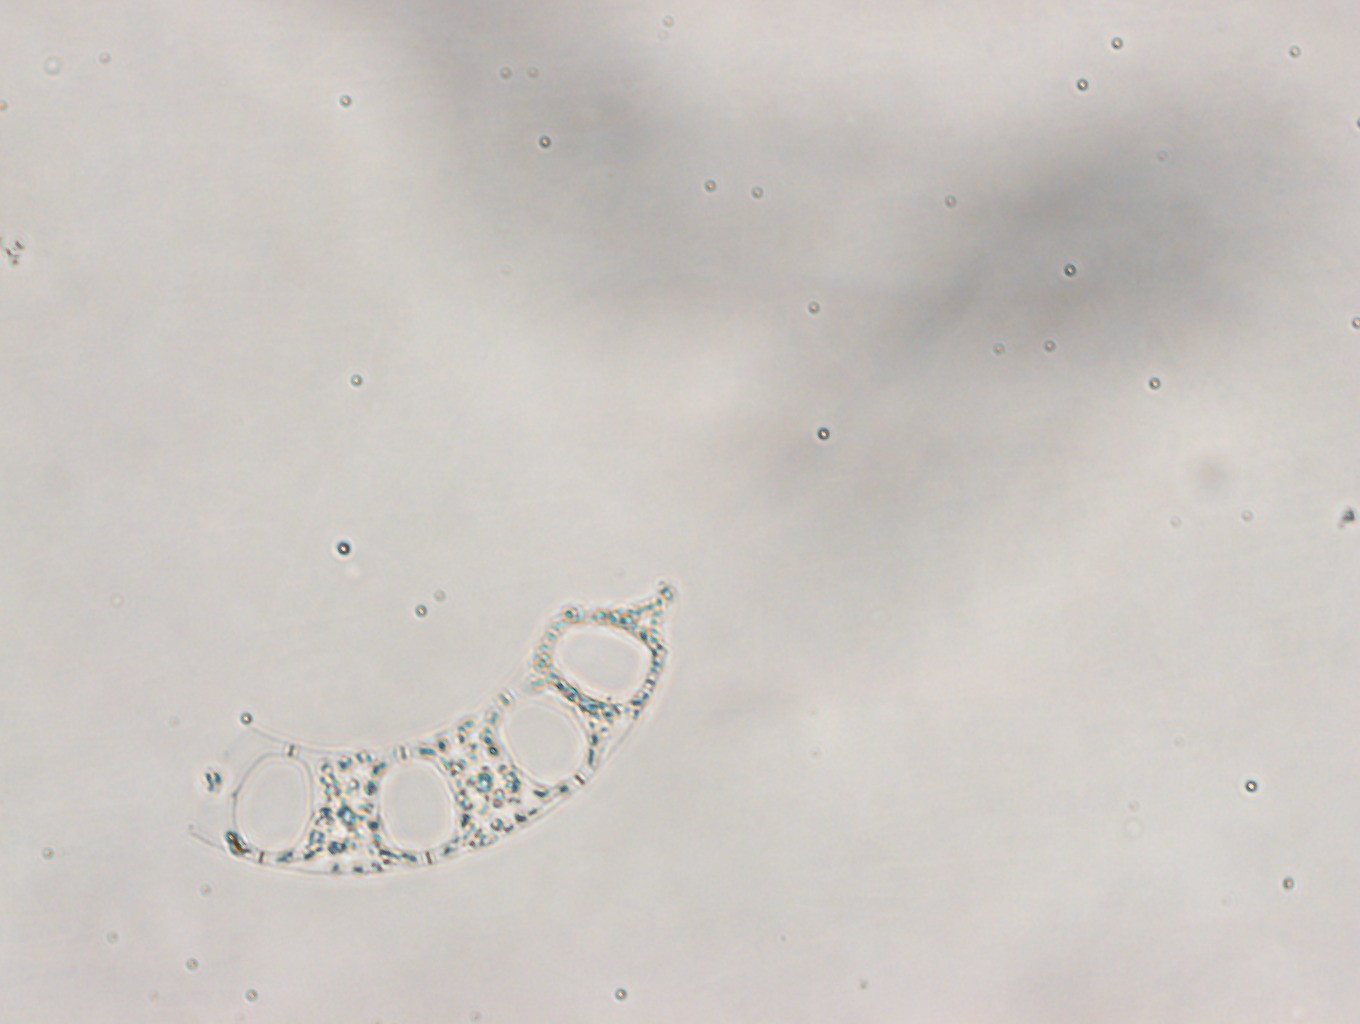eucampia: (189, 583, 677, 874)
